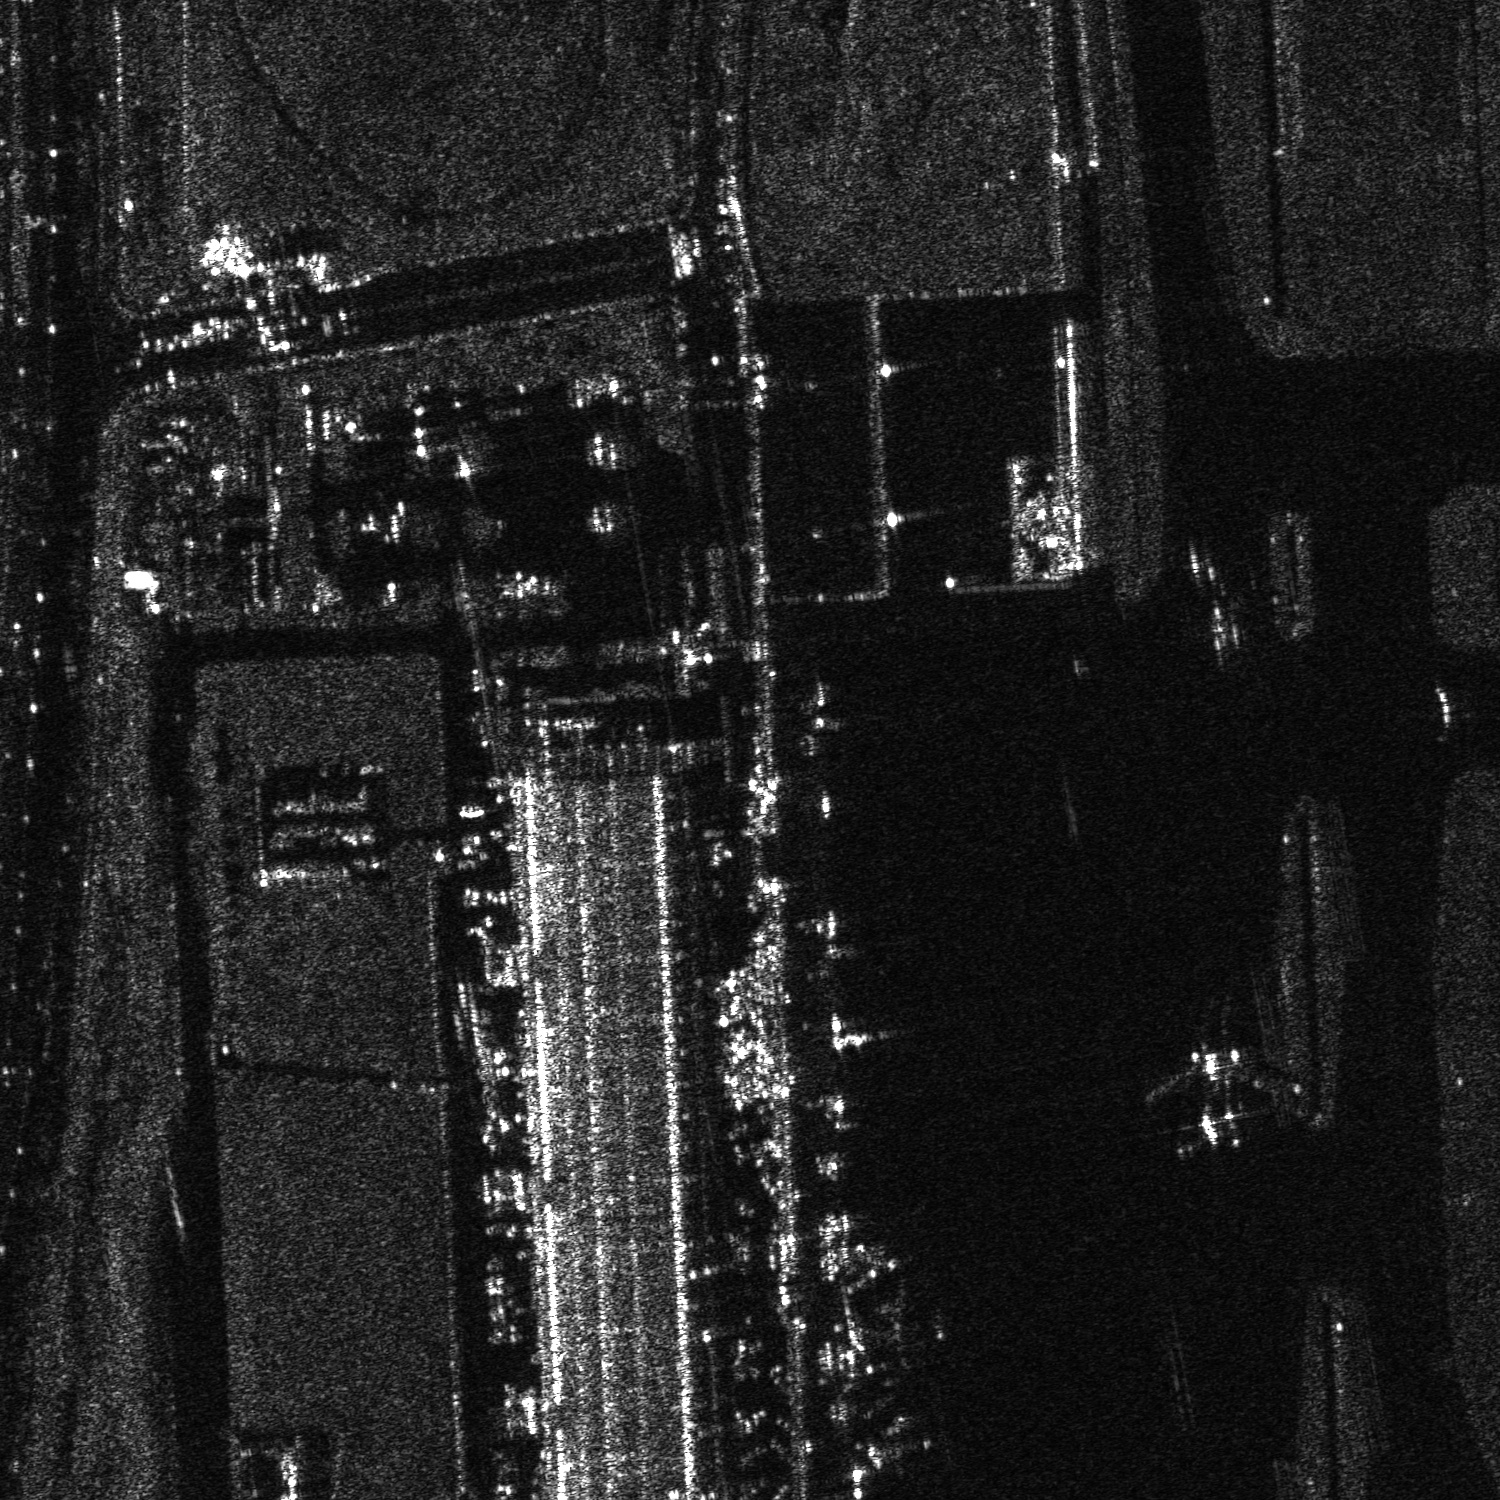A220: (845, 1286, 952, 1374)
other: (1137, 1023, 1273, 1158), (848, 1405, 940, 1473)
